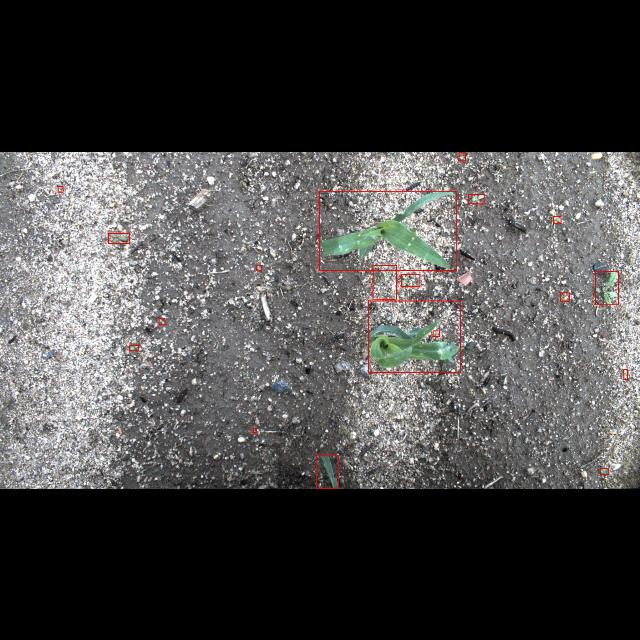crop: (319, 190, 457, 270), (368, 300, 460, 372), (316, 454, 338, 488)
weed: (373, 265, 397, 299), (596, 270, 618, 304), (402, 274, 421, 286), (108, 232, 130, 242), (468, 193, 484, 203), (560, 292, 570, 300), (129, 344, 139, 350), (432, 330, 440, 336), (459, 152, 465, 160), (600, 468, 608, 474), (554, 215, 560, 222), (624, 369, 628, 379), (159, 318, 165, 324), (256, 264, 262, 270), (58, 186, 62, 190), (252, 428, 256, 432)
